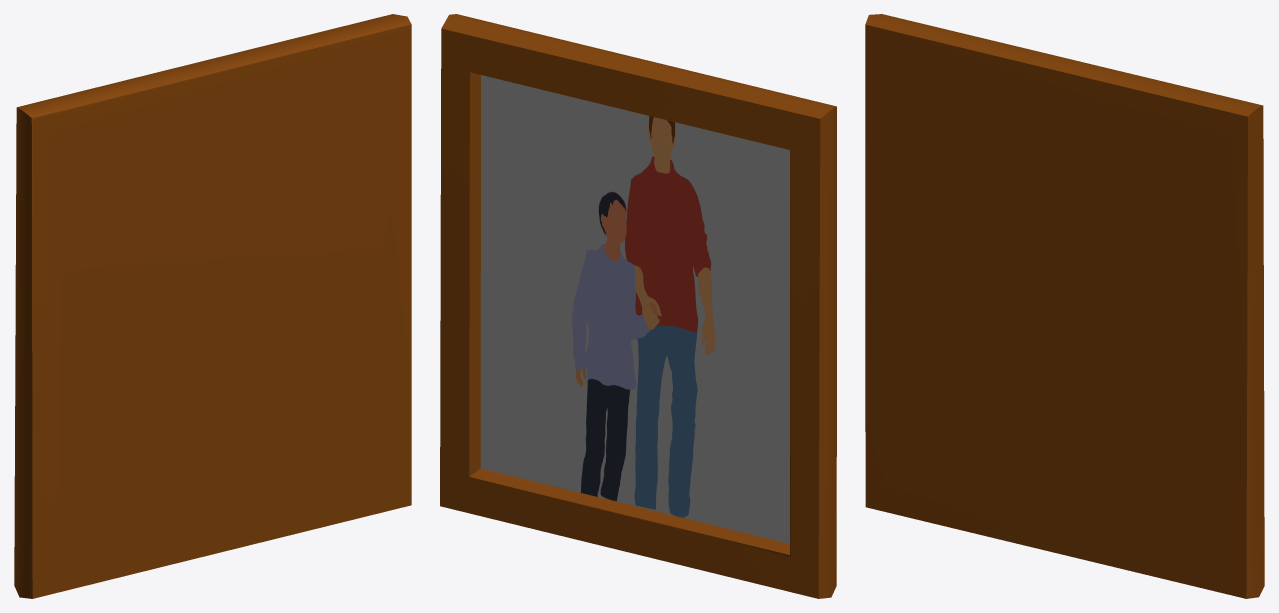
The model's file is PictureFrame.fbx.
3 renders of one model, left to right at view 1: azimuth 30°, elevation 25°; view 2: azimuth 150°, elevation 25°; view 3: azimuth 330°, elevation 25°, orthographic.
Visible parts, largest first — view 1: PictureFrame; view 2: PictureFrame; view 3: PictureFrame.
Boxes of the visible parts, x1,y1,x2,y2 form: PictureFrame: (14, 14, 411, 598); PictureFrame: (440, 14, 836, 598); PictureFrame: (865, 14, 1264, 598).
Bounding box in the file's own units: 0.3102 × 0.3751 × 0.0262.
1 material, 1 textured.
